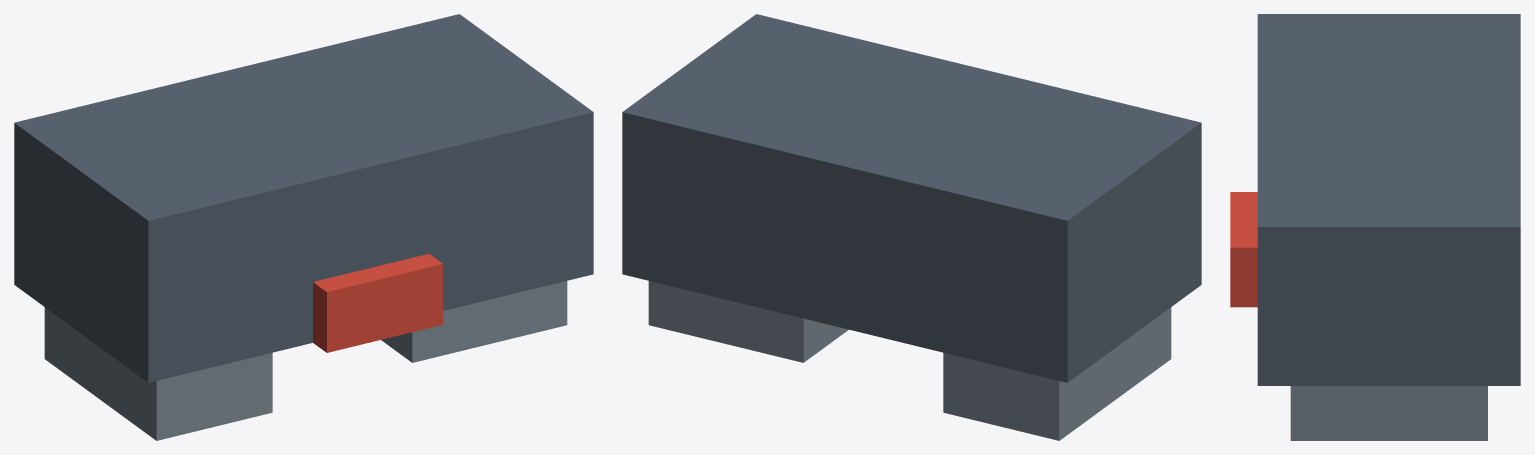
The picture shows the model from 3 angles, left to right: view 1: azimuth 30°, elevation 25°; view 2: azimuth 150°, elevation 25°; view 3: azimuth 270°, elevation 25°; orthographic projection.
Visible parts, largest first — view 1: GEO_module_lower_structure_01_LOD0; view 2: GEO_module_lower_structure_01_LOD0; view 3: GEO_module_lower_structure_01_LOD0.
Boxes of the visible parts, x1=… form: GEO_module_lower_structure_01_LOD0: x1=14, y1=14, x2=593, y2=440; GEO_module_lower_structure_01_LOD0: x1=622, y1=14, x2=1201, y2=440; GEO_module_lower_structure_01_LOD0: x1=1230, y1=14, x2=1520, y2=440.
Bounding box in the file's own units: 0.046 × 0.023 × 0.0265.
